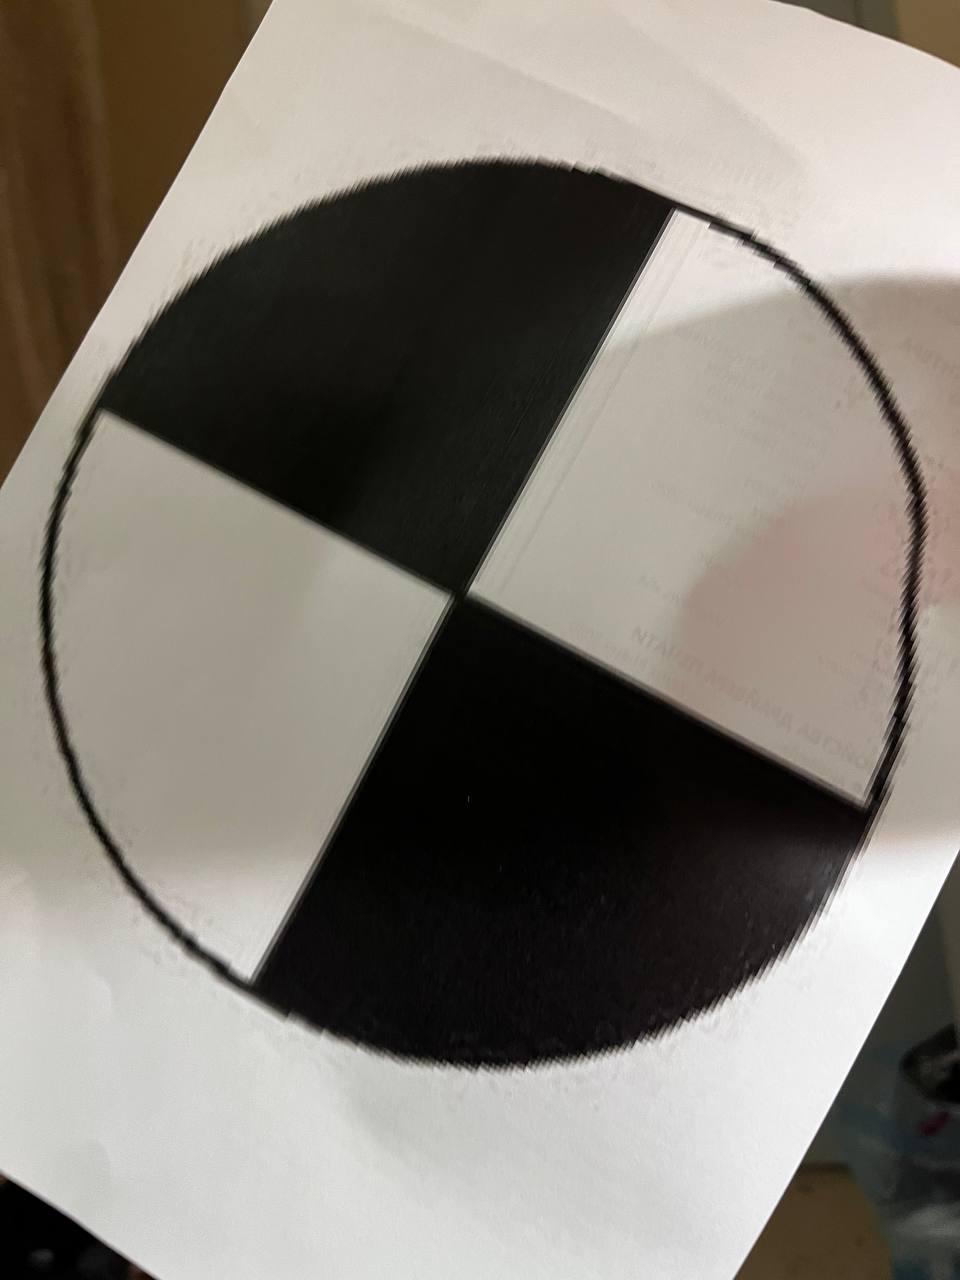pattern: (33, 158, 923, 1069)
